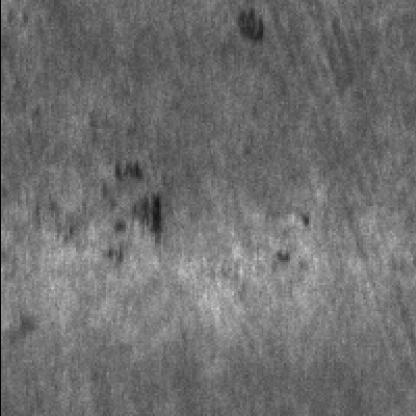rolled-in_scale: (50, 158, 164, 274)
